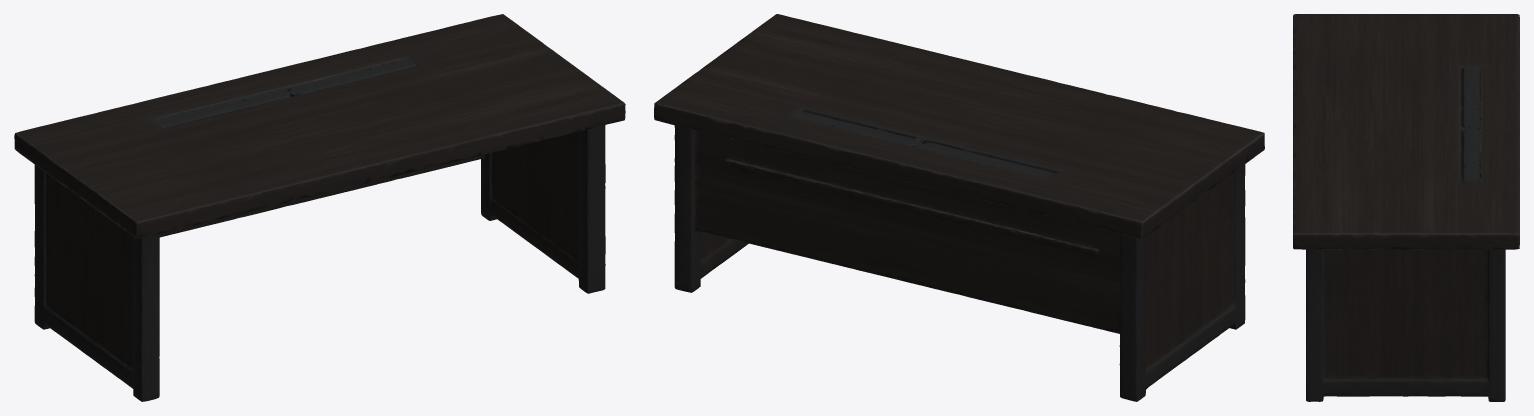
File: facultyoffice_ExecutiveDesk.glb
3 views of the same model, side by side, from view 1: azimuth 30°, elevation 25°; view 2: azimuth 150°, elevation 25°; view 3: azimuth 270°, elevation 25° (orthographic). The views are drawn at different scales.
Visible parts, largest first — view 1: world; view 2: world; view 3: world.
Boxes of the visible parts, x1,y1,x2,y2 form: world: [14, 14, 625, 401]; world: [654, 14, 1264, 401]; world: [1293, 14, 1519, 401].
Bounding box in the file's own units: 1 × 0.3706 × 0.4365.
Materials: 1 (1 with a texture image).
